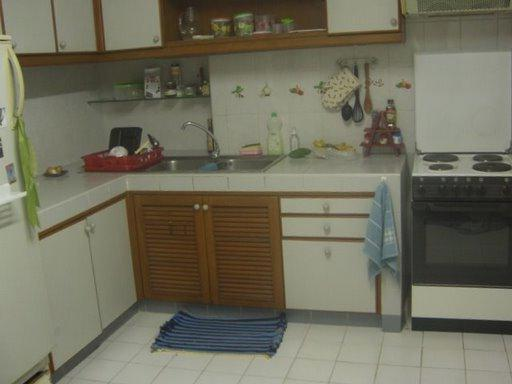Electrodomestico: (404, 142, 510, 330), (0, 36, 49, 370)
Lavaplatos: (141, 119, 286, 181)
